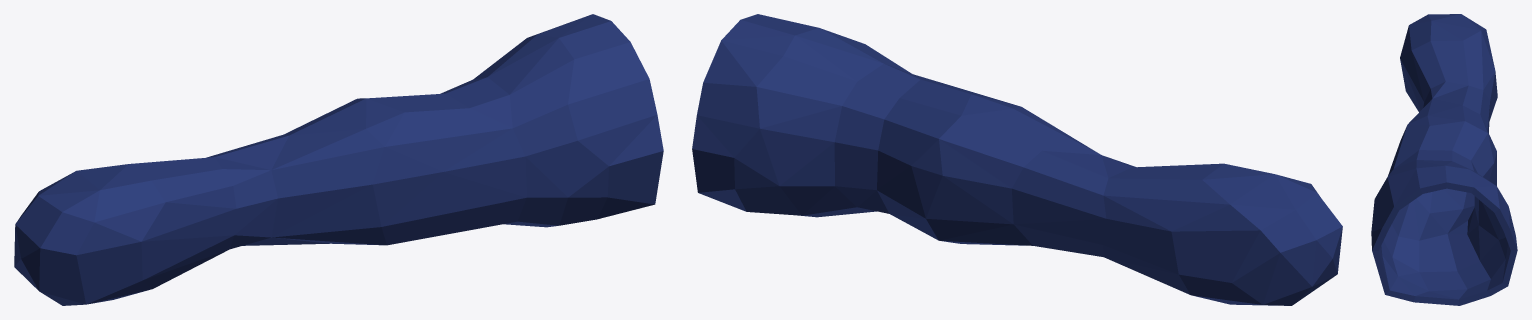
Rendered from Cave_01.fbx.
3 renders of one model, left to right at view 1: azimuth 30°, elevation 25°; view 2: azimuth 150°, elevation 25°; view 3: azimuth 270°, elevation 25°, orthographic. The views are drawn at different scales.
Visible parts, largest first — view 1: Cube; view 2: Cube; view 3: Cube.
Boxes of the visible parts, x1,y1,x2,y2 form: Cube: [14, 14, 663, 305]; Cube: [692, 14, 1342, 305]; Cube: [1371, 14, 1517, 305].
Size of the model in its own units: 1930 by 540 by 564.
